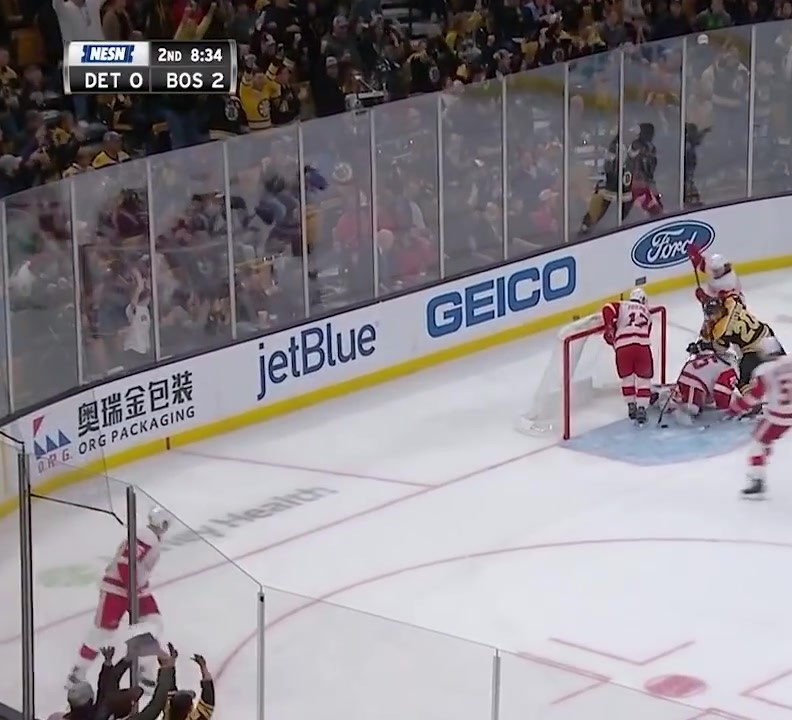Geico: (420, 257, 595, 356)
